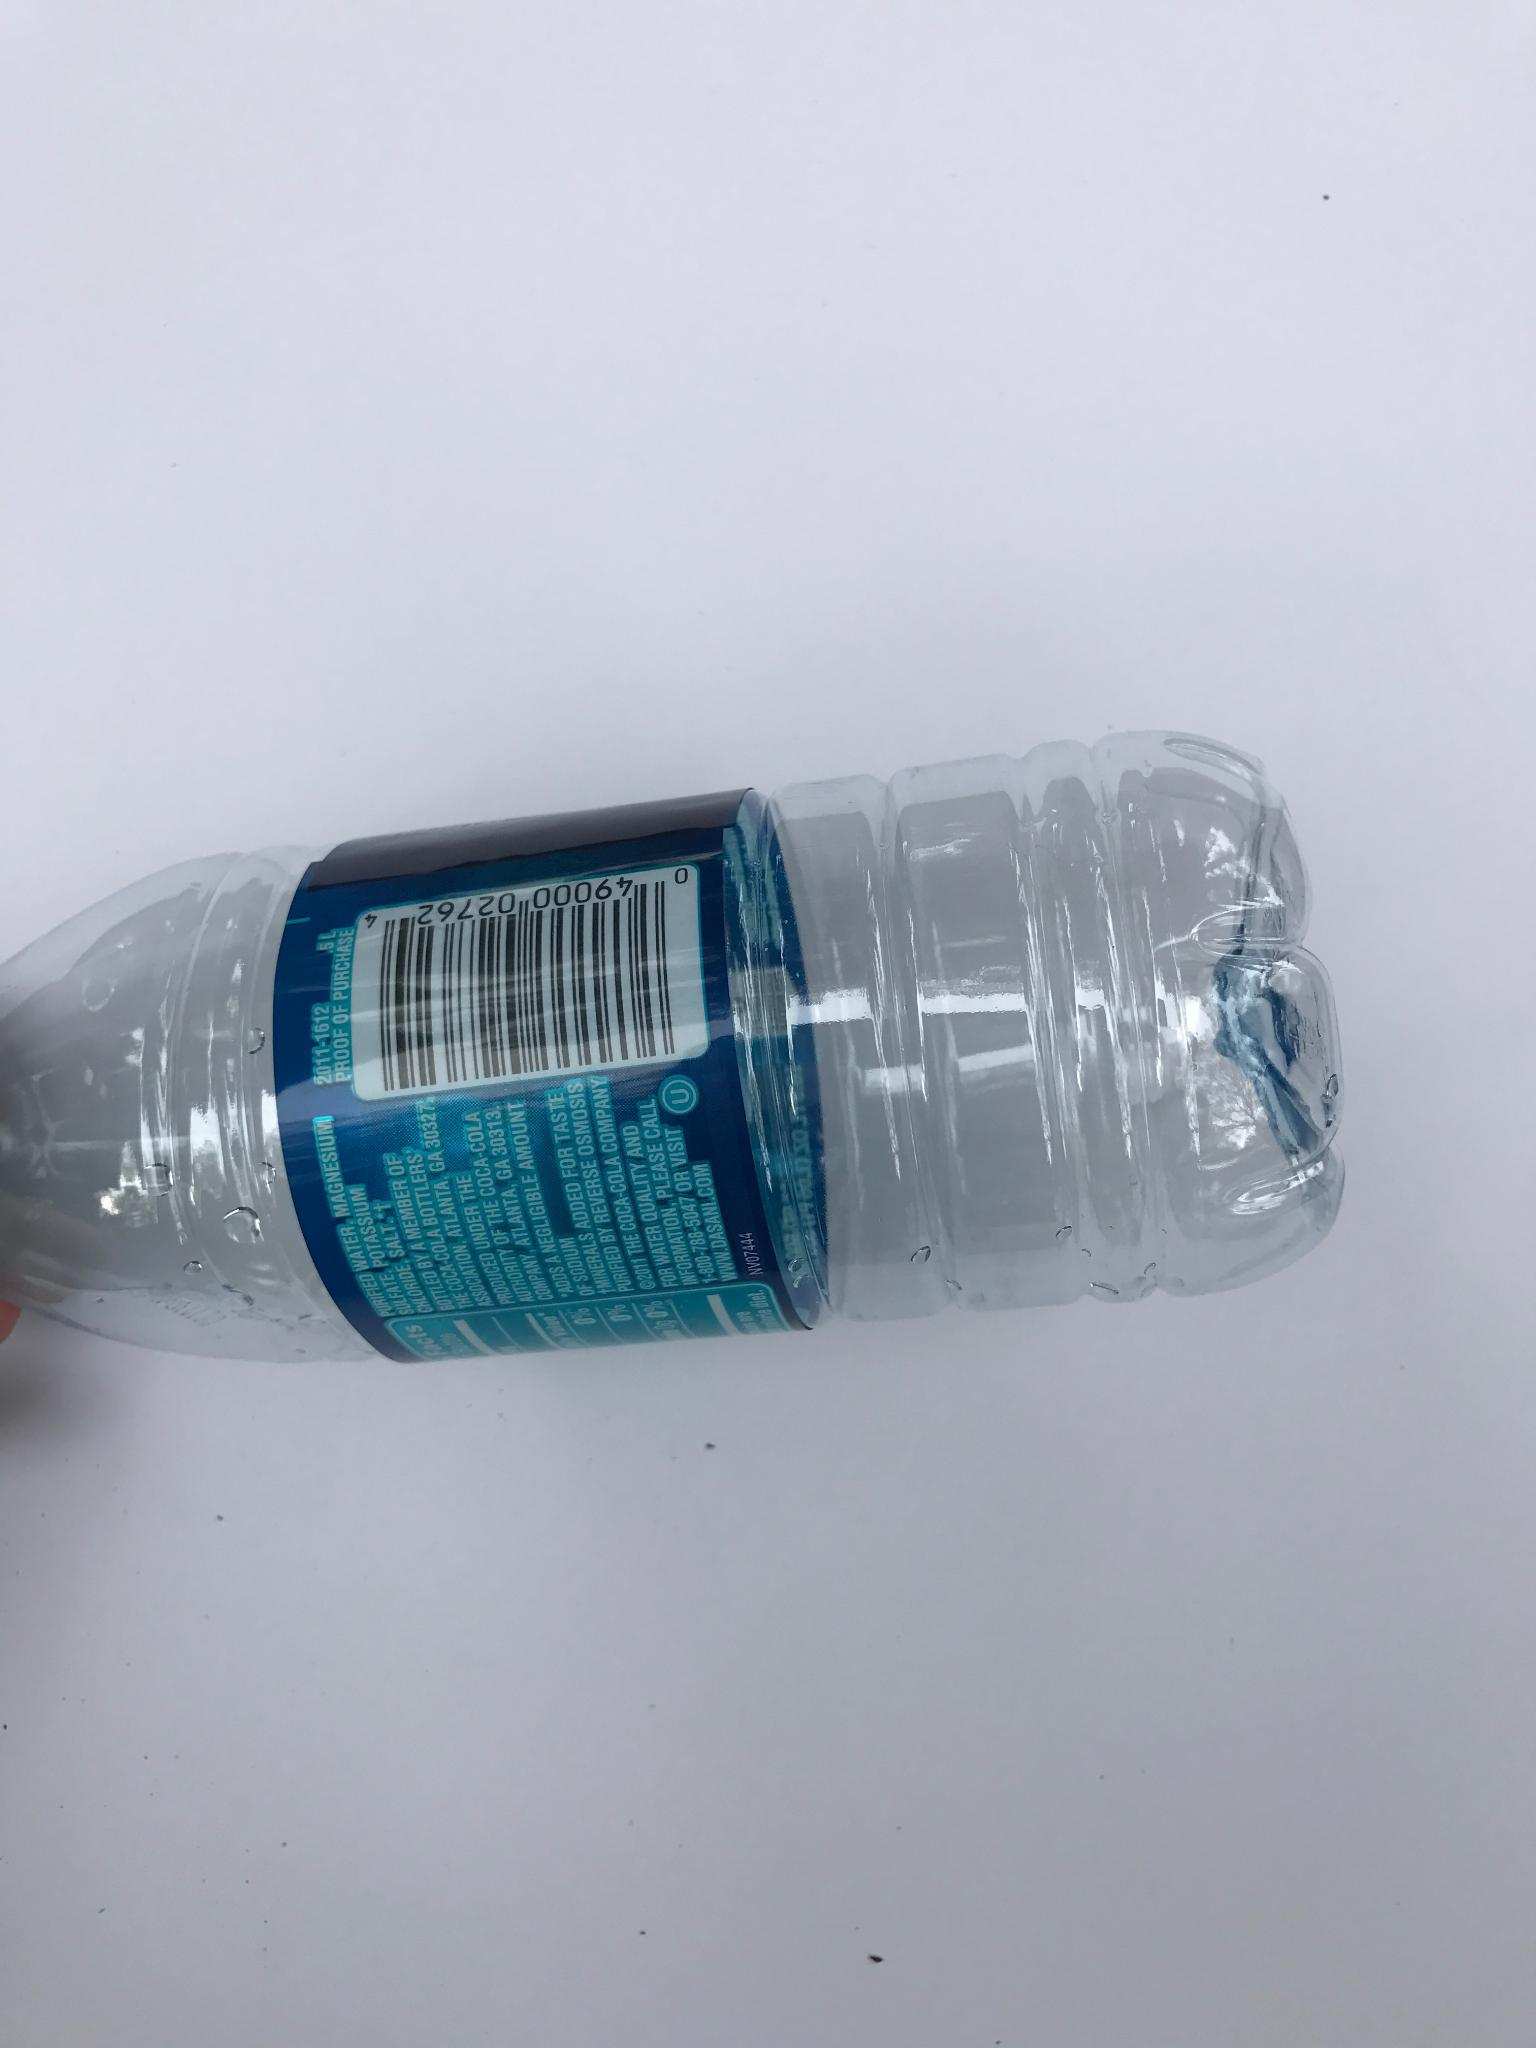Plastic: (6, 722, 1355, 1384)
